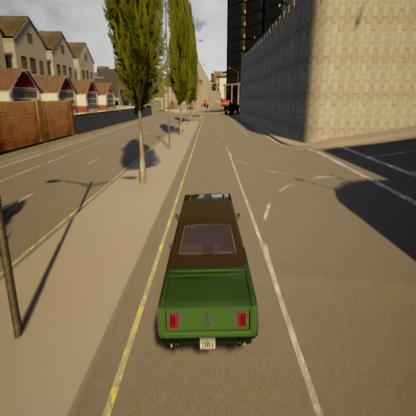Cars: (156, 192, 258, 351), (224, 102, 240, 118)
